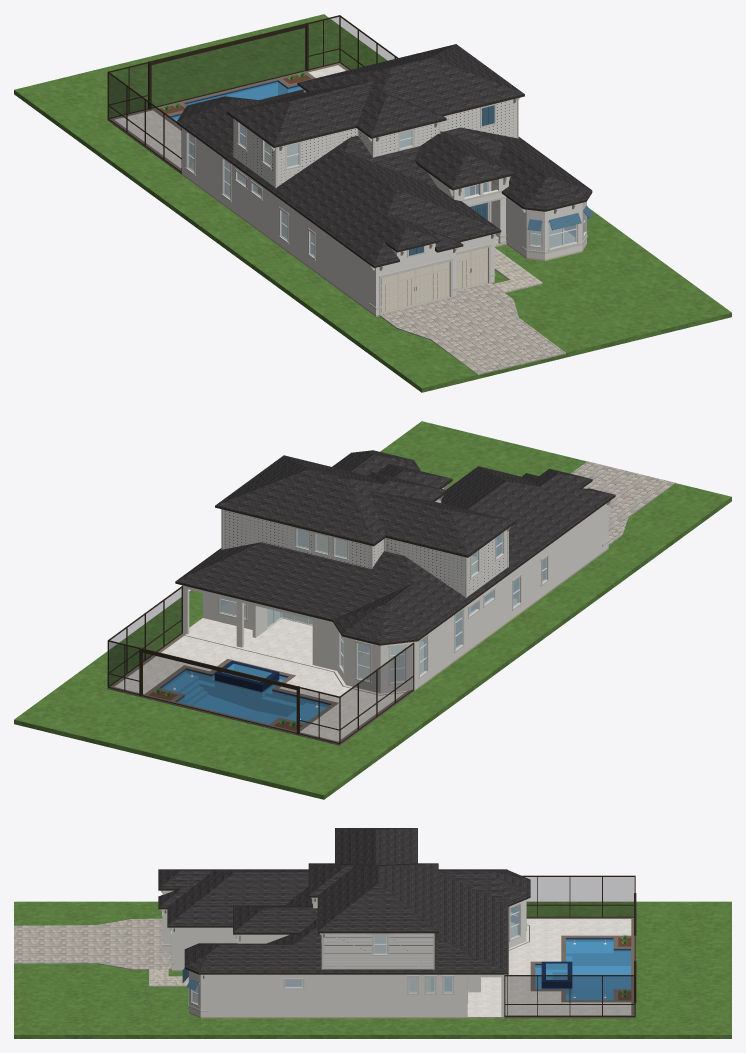
3 renders of one model, top to bottom at view 1: azimuth 30°, elevation 25°; view 2: azimuth 150°, elevation 25°; view 3: azimuth 270°, elevation 25°, orthographic. The views are drawn at different scales.
Visible parts, largest first — view 1: site__lawn, roof_lower__shingle, roof_upper__shingle, pool__screen, f1__stucco, site__drive, f2__siding, pool__cage, f1__garage2, f1__trim, pool__marble, f1__garage (+13 smaller); view 2: site__lawn, roof_lower__shingle, roof_upper__shingle, pool__screen, f1__stucco, pool__marble, f2__siding, pool__water, pool__poolfin, pool__cage, site__drive, pool__coping (+9 smaller); view 3: site__lawn, roof_lower__shingle, f1__stucco, roof_upper__shingle, pool__screen, pool__marble, site__drive, pool__water, f2__siding, pool__poolfin, pool__coping, pool__cage (+9 smaller).
Part boxes in pixels (x1,y1,x2,y2): site__lawn: (14,14,731,392); roof_lower__shingle: (177,89,592,265); roof_upper__shingle: (227,44,524,145); pool__screen: (109,17,394,171); f1__stucco: (182,128,586,315); site__drive: (379,283,565,374); f2__siding: (234,90,516,186); pool__cage: (107,15,397,172); f1__garage2: (381,248,486,311); f1__trim: (185,130,587,314); pool__marble: (114,65,345,168); f1__garage: (381,247,487,313); site__lawn: (14,421,731,799); roof_lower__shingle: (175,450,614,643); roof_upper__shingle: (215,455,514,555); pool__screen: (109,588,413,742); f1__stucco: (182,503,608,693); pool__marble: (114,618,407,741); f2__siding: (223,499,507,596); pool__water: (161,664,329,723); pool__poolfin: (163,663,328,723); pool__cage: (107,586,414,744); site__drive: (570,461,675,545); pool__coping: (107,633,414,745); site__lawn: (14,901,731,1038); roof_lower__shingle: (158,869,530,972); f1__stucco: (163,900,526,1016); roof_upper__shingle: (308,828,438,931); pool__screen: (505,877,634,1015); pool__marble: (467,919,631,1016); site__drive: (14,918,171,969); pool__water: (535,939,630,999); f2__siding: (314,897,432,969); pool__poolfin: (535,940,630,999); pool__coping: (504,917,635,1018); pool__cage: (504,875,636,1016).
Bounding box in the file's own units: 21.95 × 10.17 × 49.99.
Materials: 34 (6 with a texture image).
